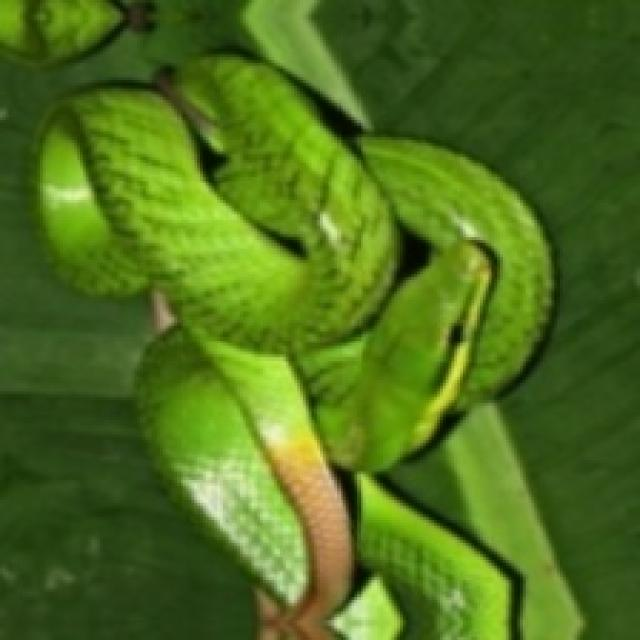red-tailed green ratsnake: (34, 54, 560, 637)
